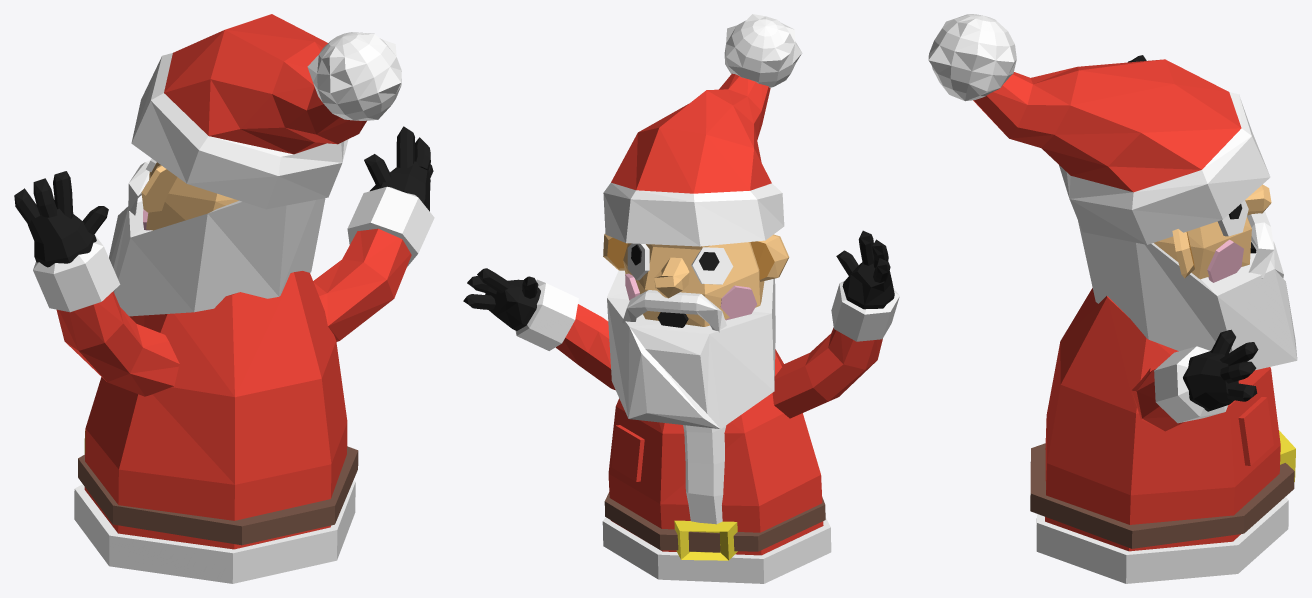
The model's file is santanolegs.glb.
3 renders of one model, left to right at view 1: azimuth 30°, elevation 25°; view 2: azimuth 150°, elevation 25°; view 3: azimuth 270°, elevation 25°, orthographic. The views are drawn at different scales.
Visible parts, largest first — view 1: group567412692, group806251968, group369021551, group1013935021, group27873801, group567754470, group862190925, group1069797574, group1102469100, group318151776, group721018359; view 2: group806251968, group567412692, group369021551, group1013935021, group27873801, group567754470, group1069797574, group1102469100, group1646512128, group862190925, group721018359, group728089427 (+8 smaller); view 3: group806251968, group567412692, group369021551, group567754470, group27873801, group862190925, group1069797574, group1102469100, group776075749, group721018359, group1305797431, group1234890453 (+2 smaller).
Boxes of the visible parts, x1,y1,x2,y2 form: group567412692: (84,271,347,549); group806251968: (131,14,366,209); group369021551: (109,198,325,316); group1013935021: (14,171,179,396); group27873801: (313,126,434,341); group567754470: (74,481,355,583); group862190925: (78,446,358,545); group1069797574: (307,32,401,120); group1102469100: (146,162,238,230); group318151776: (141,165,177,212); group721018359: (128,160,150,215); group806251968: (603,73,784,246); group567412692: (608,349,823,555); group369021551: (607,270,775,428); group1013935021: (772,230,899,418); group27873801: (463,268,615,390); group567754470: (602,517,831,583); group1069797574: (724,14,801,88); group1102469100: (623,242,764,326); group1646512128: (683,425,726,524); group862190925: (604,492,825,551); group721018359: (622,290,726,332); group728089427: (674,520,737,560); group806251968: (973,59,1270,244); group567412692: (1045,288,1280,551); group369021551: (1078,221,1297,370); group567754470: (1036,497,1288,583); group27873801: (1131,329,1258,431); group862190925: (1030,443,1294,548); group1069797574: (928,14,1016,101); group1102469100: (1154,217,1251,279); group776075749: (1238,397,1273,465); group721018359: (1247,211,1274,278); group1305797431: (1207,239,1243,282); group1234890453: (1172,229,1194,278).
Bounding box in the file's own units: 0.4192 × 0.4763 × 0.2998.
